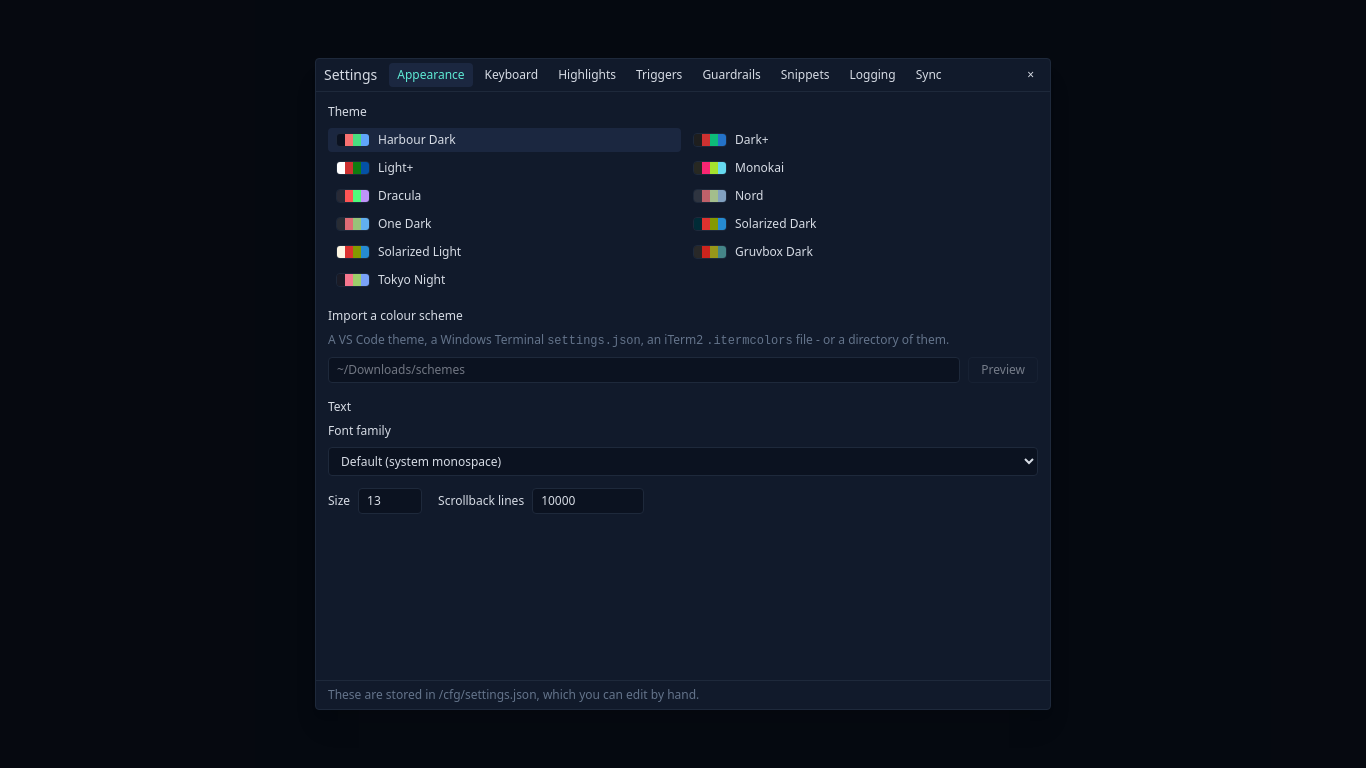
Test: keyboard › puts an action back to its built-in binding
Click the button "Keyboard". click: (511,75)
box: x1=477 y1=63 x2=546 y2=87
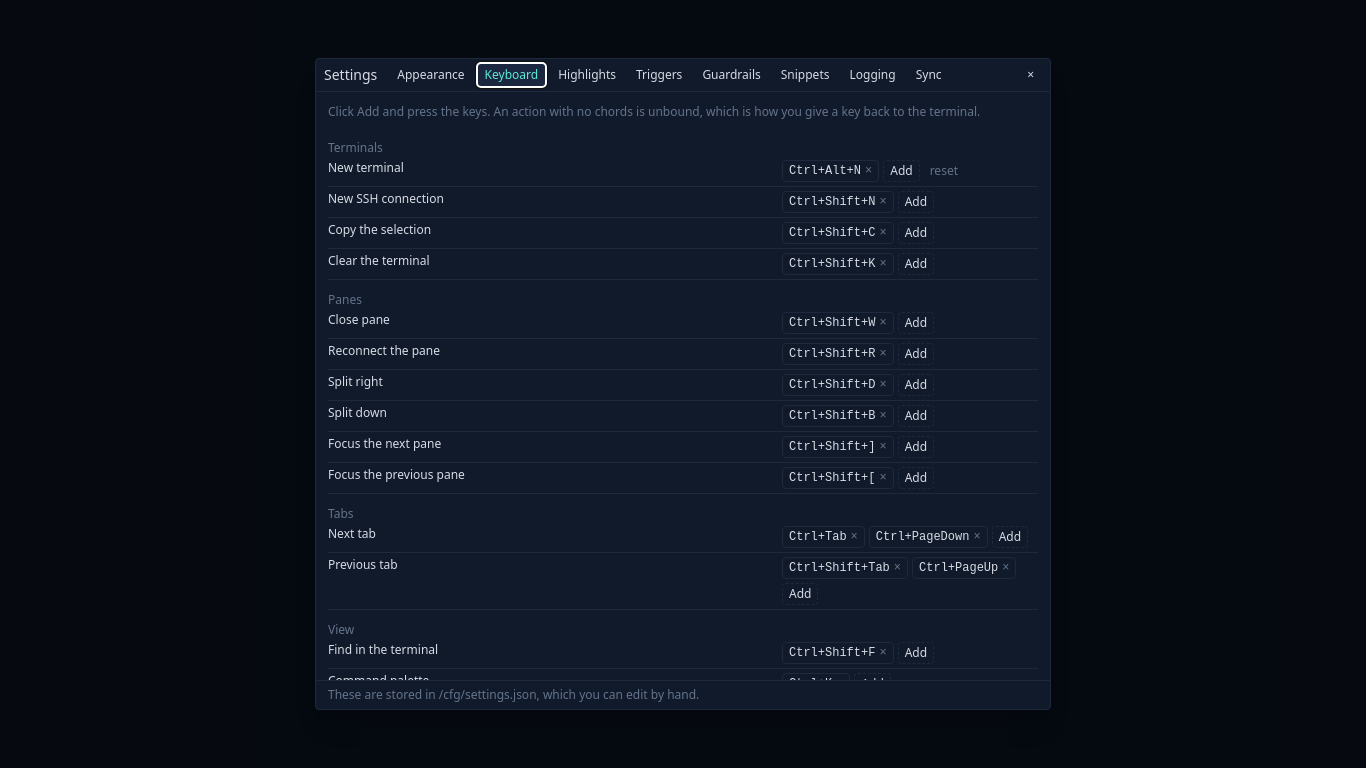
Click the button "reset". click: (944,171)
box: x1=924 y1=161 x2=964 y2=181
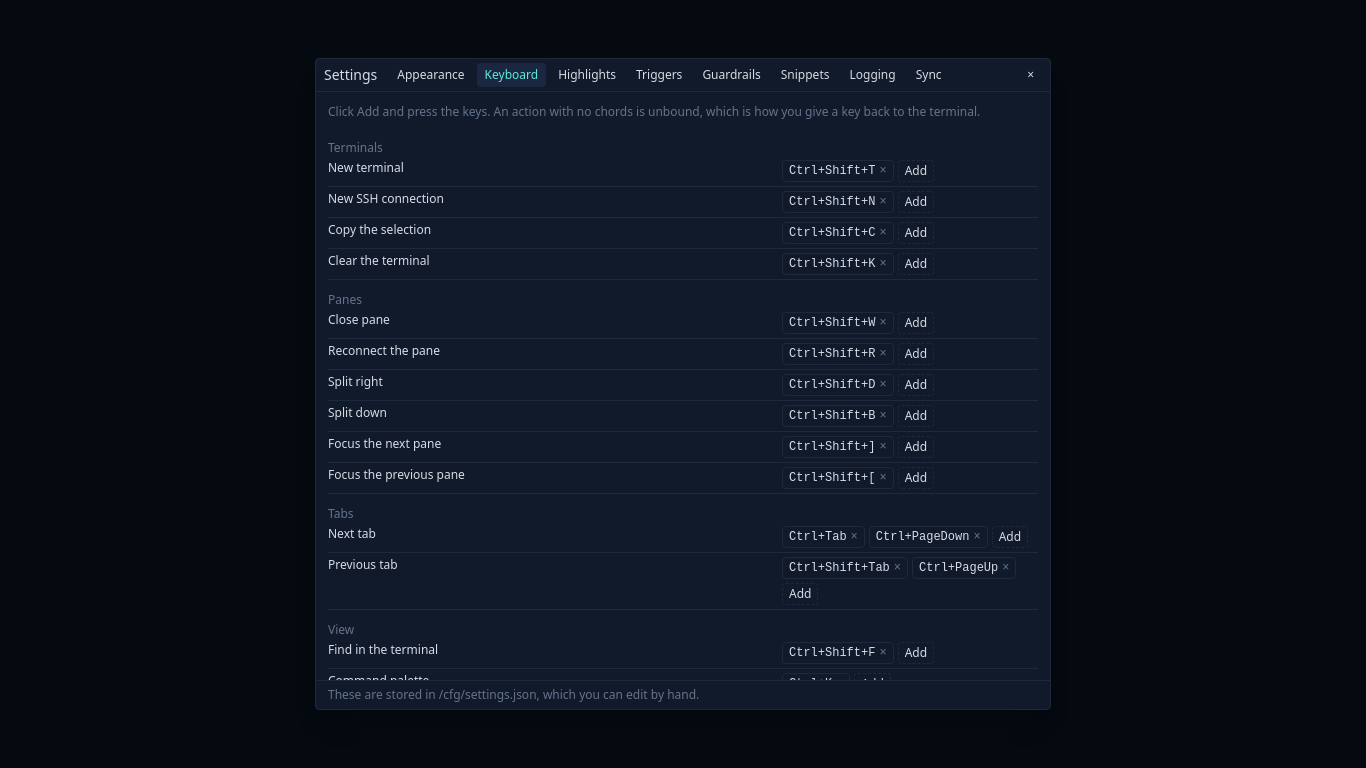
Expected: the text "Ctrl+Shift+T" is shown, x1=789 y1=164 x2=875 y2=178
